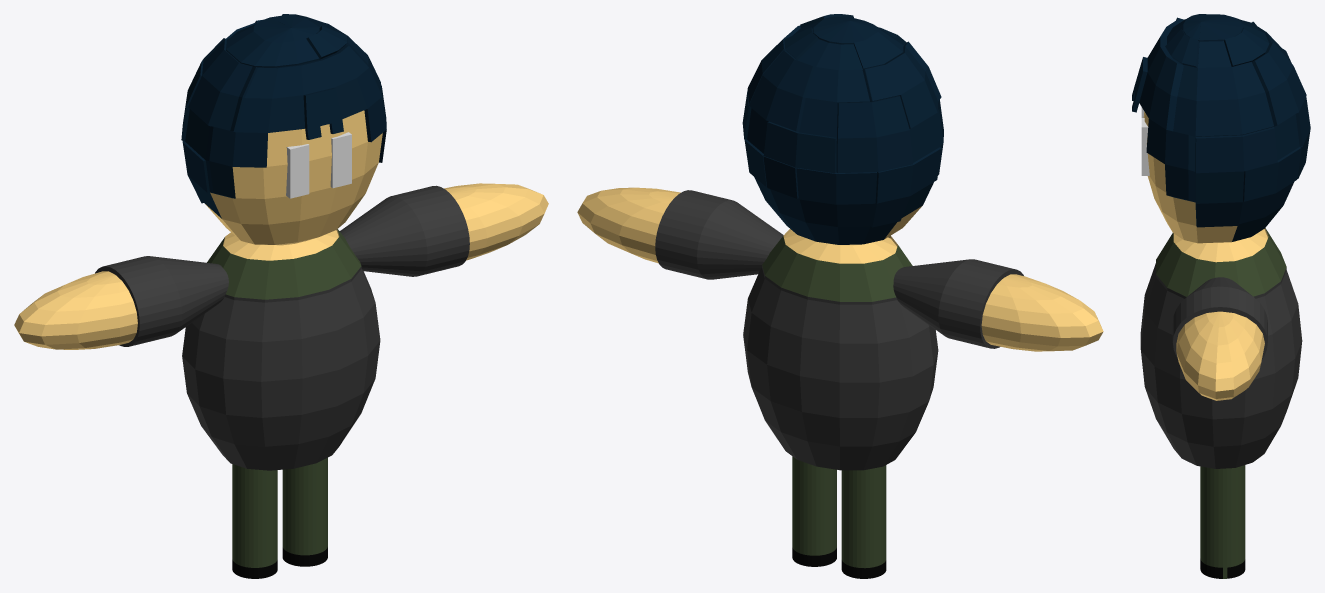
File: James.glb
3 views of the same model, side by side, from view 1: azimuth 30°, elevation 25°; view 2: azimuth 150°, elevation 25°; view 3: azimuth 270°, elevation 25° (orthographic).
Parts seen in each view (by area): view 1: head.012, body.012, rightArm.012, leftArm.012, rightLeg.012, leftLeg.012; view 2: head.012, body.012, rightArm.012, leftArm.012, rightLeg.012, leftLeg.012; view 3: head.012, body.012, leftArm.012, leftLeg.012.
Part boxes in pixels (x1,y1,x2,y2): head.012: (181,14,386,245); body.012: (182,229,380,470); rightArm.012: (14,256,228,349); leftArm.012: (339,183,548,276); rightLeg.012: (232,464,277,578); leftLeg.012: (282,457,327,566); head.012: (742,14,943,244); body.012: (743,229,938,470); rightArm.012: (893,259,1103,351); leftArm.012: (577,187,783,279); rightLeg.012: (841,465,886,578); leftLeg.012: (792,456,836,566); head.012: (1132,14,1310,243); body.012: (1140,228,1302,468); leftArm.012: (1172,277,1267,400); leftLeg.012: (1200,465,1245,578).
Bounding box in the file's own units: 1.68 × 1.64 × 0.4972.
